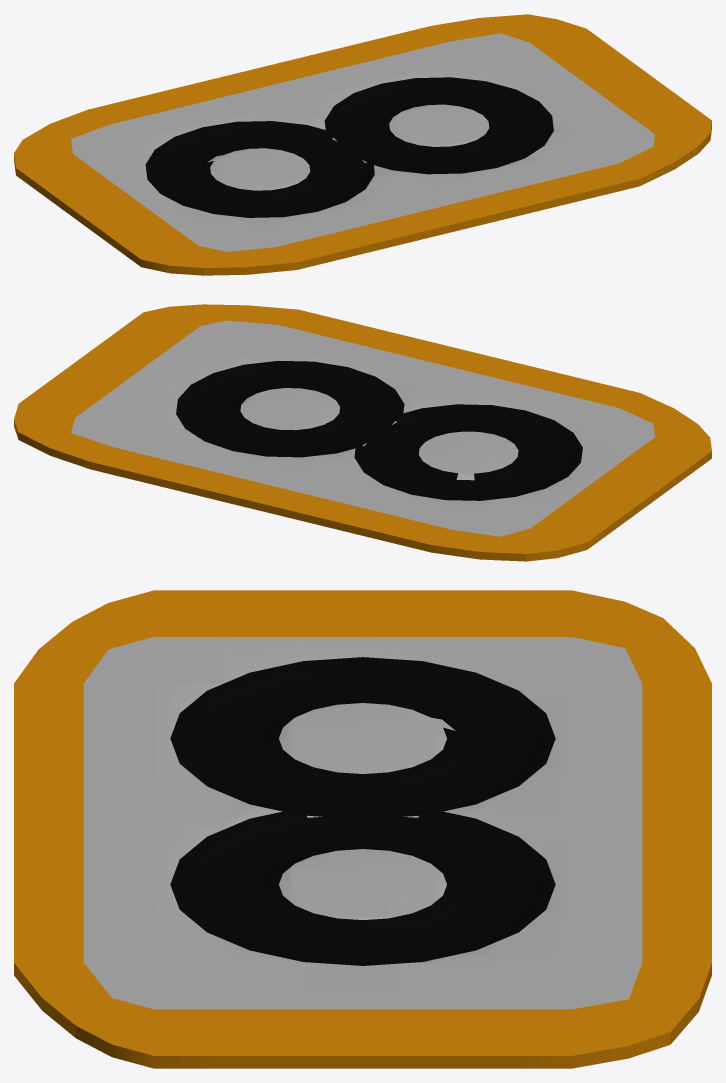
The model's file is CodeCard8.fbx.
3 renders of one model, top to bottom at view 1: azimuth 30°, elevation 25°; view 2: azimuth 150°, elevation 25°; view 3: azimuth 270°, elevation 25°, orthographic. The views are drawn at different scales.
Parts seen in each view (by area): view 1: pPlane2; view 2: pPlane2; view 3: pPlane2.
Part boxes in pixels (x1=…): pPlane2: x1=14, y1=14, x2=711, y2=275; pPlane2: x1=14, y1=304, x2=711, y2=561; pPlane2: x1=14, y1=590, x2=711, y2=1068.
Bounding box in the file's own units: 7.96 × 0.1011 × 5.04.
